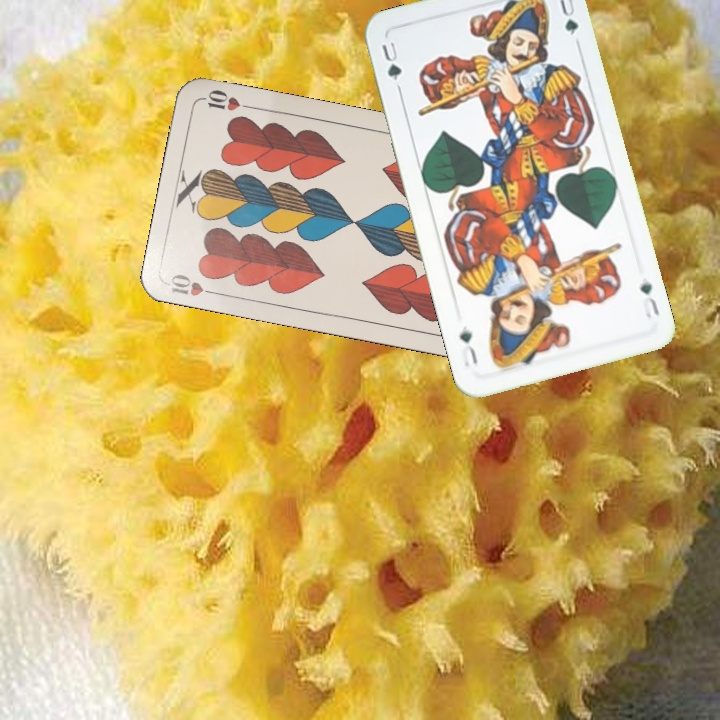GU: (377, 37, 405, 84), (636, 279, 662, 321)
H10: (165, 270, 223, 299)
